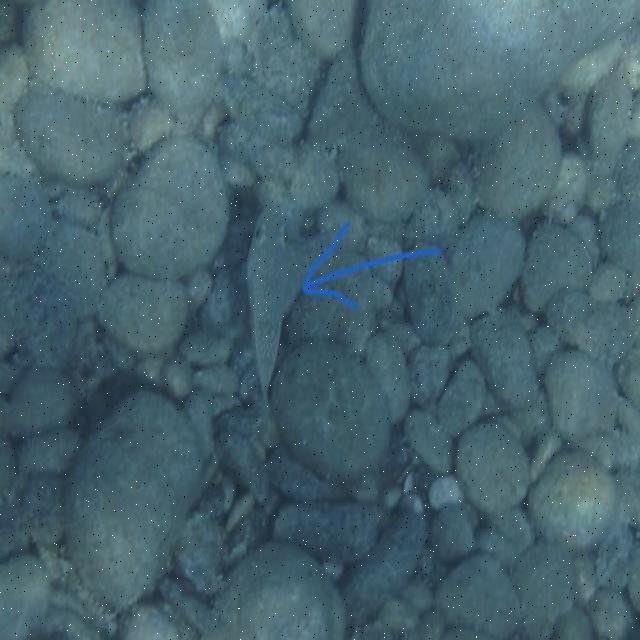Balik: (248, 205, 304, 406)
